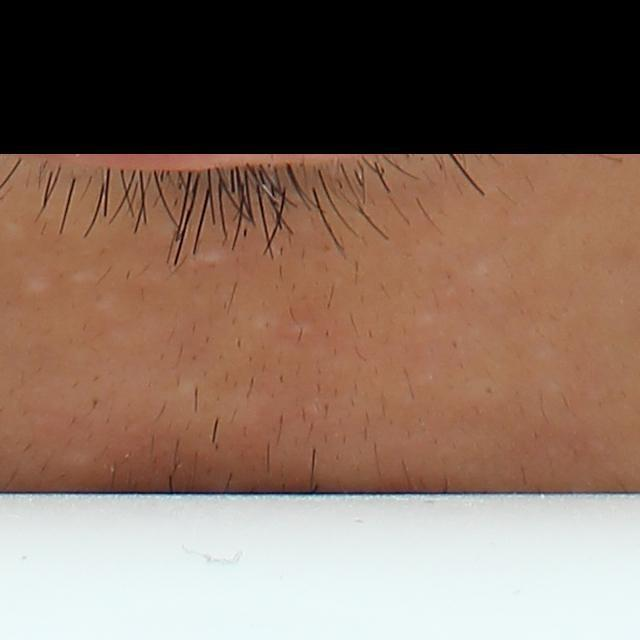hypertrophic_scar: (186, 242, 241, 268), (15, 272, 58, 301), (242, 309, 283, 334), (64, 268, 103, 287), (87, 293, 121, 313), (2, 218, 28, 237), (414, 314, 443, 330)
